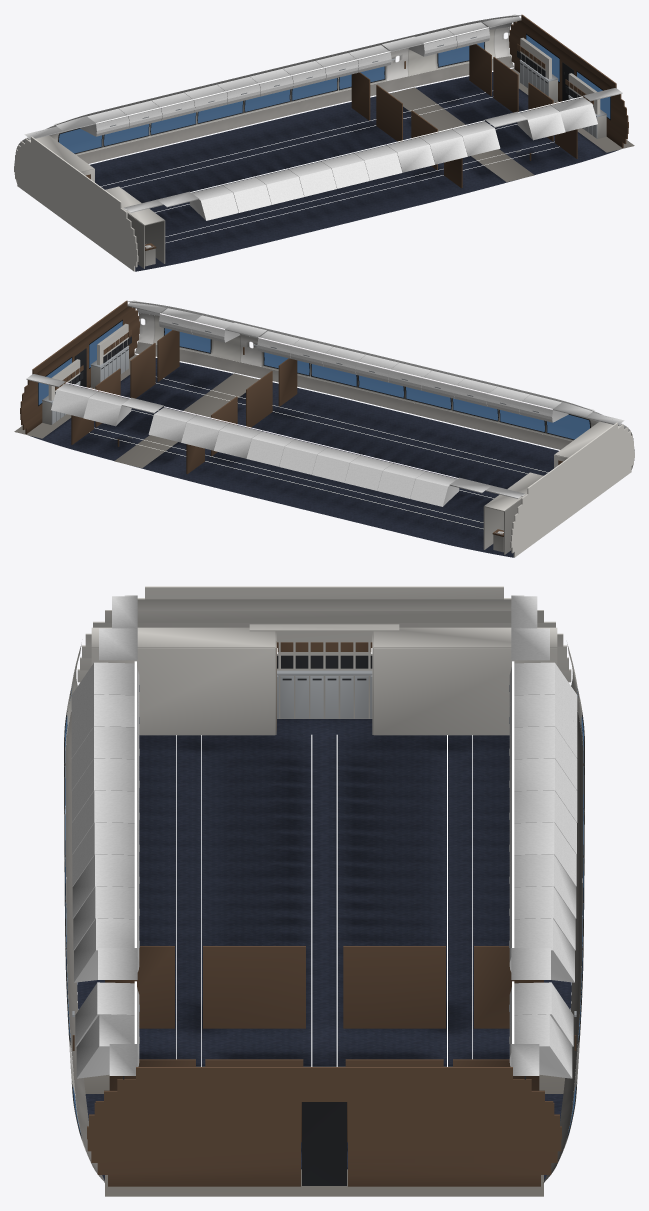
The model's file is ma-bw-cabin.glb.
The picture shows the model from 3 angles, top to bottom: view 1: azimuth 30°, elevation 25°; view 2: azimuth 150°, elevation 25°; view 3: azimuth 270°, elevation 25°; orthographic projection. The views are drawn at different scales.
Visible parts, largest first — view 1: Cabin_Floor, Cabin_Overhead, Cabin_Monuments, Cabin_Lining, Cabin_VirtualWindows; view 2: Cabin_Floor, Cabin_Overhead, Cabin_Monuments, Cabin_Lining, Cabin_VirtualWindows; view 3: Cabin_Monuments, Cabin_Floor, Cabin_Overhead, Cabin_Lining, Cabin_VirtualWindows.
Boxes of the visible parts, box(x1,y1,x2,y2) form: Cabin_Floor: box(90, 68, 634, 271); Cabin_Overhead: box(24, 14, 622, 220); Cabin_Monuments: box(14, 14, 628, 271); Cabin_Lining: box(14, 15, 521, 183); Cabin_VirtualWindows: box(58, 33, 610, 153); Cabin_Floor: box(14, 354, 558, 557); Cabin_Overhead: box(26, 300, 624, 506); Cabin_Monuments: box(20, 300, 634, 557); Cabin_Lining: box(127, 301, 634, 469); Cabin_VirtualWindows: box(38, 319, 590, 439); Cabin_Monuments: box(72, 586, 576, 1186); Cabin_Floor: box(77, 719, 571, 1196); Cabin_Overhead: box(71, 595, 577, 1078); Cabin_Lining: box(64, 644, 584, 1183); Cabin_VirtualWindows: box(64, 687, 584, 1137).
Size of the model in its own units: 24.93 by 2.81 by 11.15.
20 materials, 7 textured.
